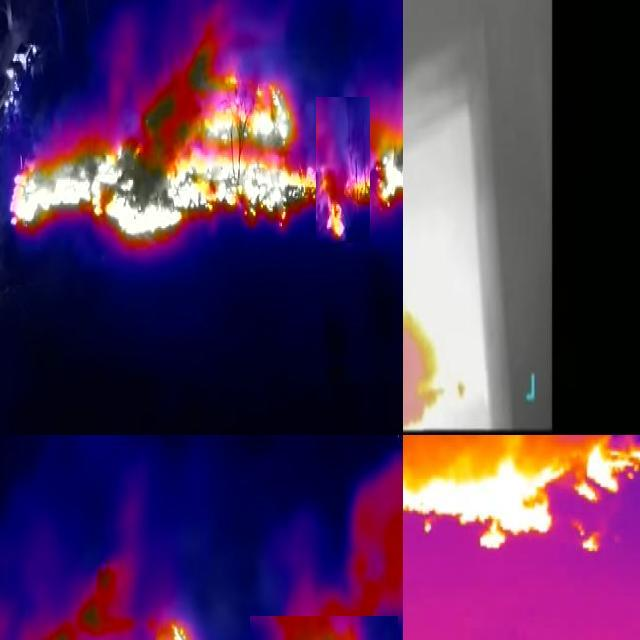fire: (8, 40, 316, 251), (404, 436, 640, 555), (316, 98, 370, 244), (404, 254, 444, 436), (373, 55, 404, 209)
